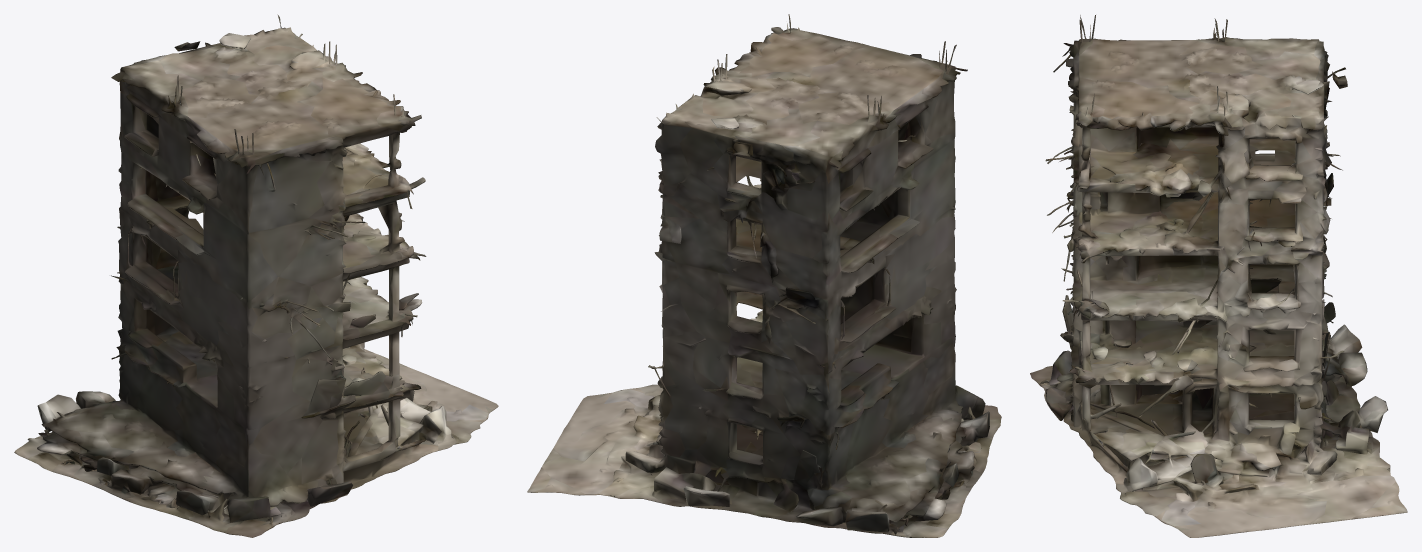
The model's file is ruin_block.glb.
3 views of the same model, side by side, from view 1: azimuth 30°, elevation 25°; view 2: azimuth 150°, elevation 25°; view 3: azimuth 270°, elevation 25° (orthographic). The views are drawn at different scales.
Parts seen in each view (by area): view 1: tripo_node_4df98c55-9731-4d4f-b5cb-c49772fa47cb; view 2: tripo_node_4df98c55-9731-4d4f-b5cb-c49772fa47cb; view 3: tripo_node_4df98c55-9731-4d4f-b5cb-c49772fa47cb.
Boxes of the visible parts, x1,y1,x2,y2 form: tripo_node_4df98c55-9731-4d4f-b5cb-c49772fa47cb: (14,14,498,537); tripo_node_4df98c55-9731-4d4f-b5cb-c49772fa47cb: (527,14,1001,537); tripo_node_4df98c55-9731-4d4f-b5cb-c49772fa47cb: (1030,15,1407,537).
Size of the model in its own units: 1 by 0.8909 by 0.8048.
Materials: 1 (1 with a texture image).
